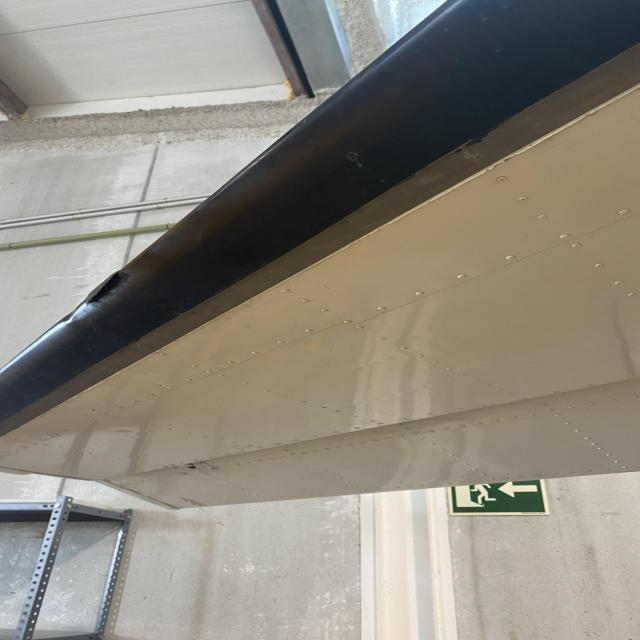Dent: (55, 306, 88, 326)
